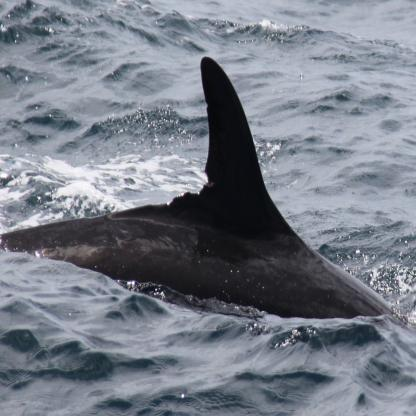dolphin-whale: (2, 56, 412, 330)
